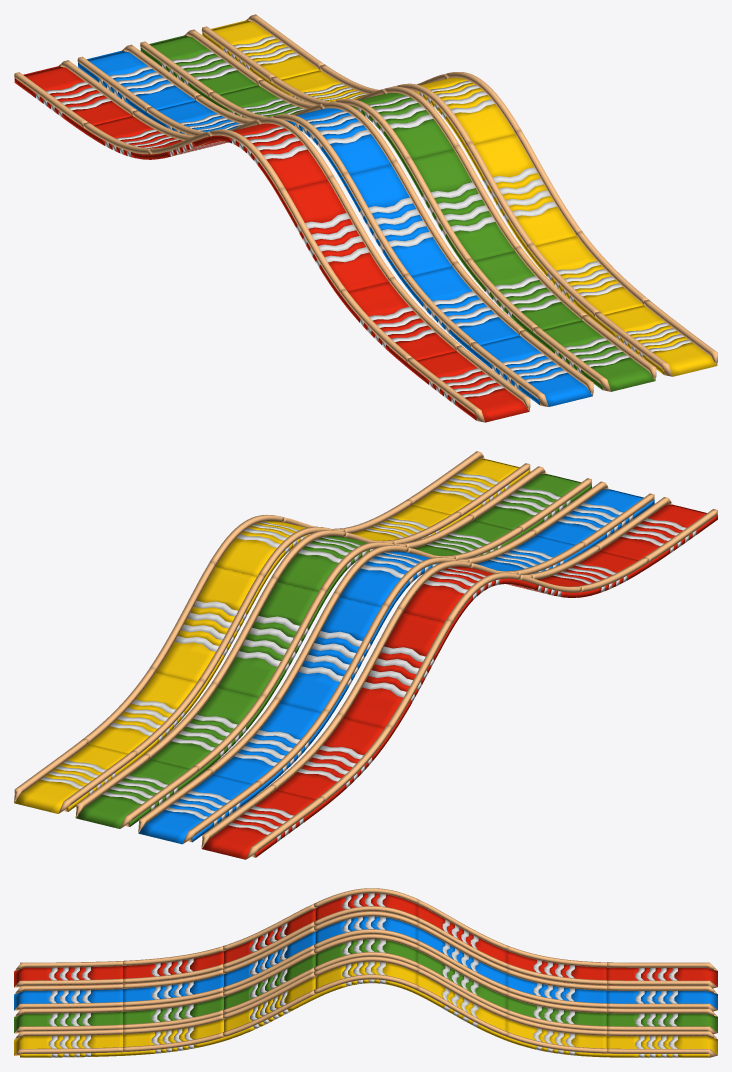
The model's file is ramp-fs22-mod-textured.glb.
3 renders of one model, top to bottom at view 1: azimuth 30°, elevation 25°; view 2: azimuth 150°, elevation 25°; view 3: azimuth 270°, elevation 25°, orthographic. The views are drawn at different scales.
Parts seen in each view (by area): view 1: Ramp_FS22_Mod_—_combined_textured_ramp_1, Ramp_FS22_Mod_—_combined_textured_ramp, Ramp_FS22_Mod_—_combined_textured_ramp_2, Ramp_FS22_Mod_—_combined_textured_ramp_3, Ramp_FS22_Mod_—_combined_textured_ramp_11, Ramp_FS22_Mod_—_combined_textured_ramp_9, Ramp_FS22_Mod_—_combined_textured_ramp_5, Ramp_FS22_Mod_—_combined_textured_ramp_7, Ramp_FS22_Mod_—_combined_textured_ramp_10, Ramp_FS22_Mod_—_combined_textured_ramp_8, Ramp_FS22_Mod_—_combined_textured_ramp_6, Ramp_FS22_Mod_—_combined_textured_ramp_4; view 2: Ramp_FS22_Mod_—_combined_textured_ramp_1, Ramp_FS22_Mod_—_combined_textured_ramp, Ramp_FS22_Mod_—_combined_textured_ramp_2, Ramp_FS22_Mod_—_combined_textured_ramp_3, Ramp_FS22_Mod_—_combined_textured_ramp_11, Ramp_FS22_Mod_—_combined_textured_ramp_9, Ramp_FS22_Mod_—_combined_textured_ramp_7, Ramp_FS22_Mod_—_combined_textured_ramp_5, Ramp_FS22_Mod_—_combined_textured_ramp_10, Ramp_FS22_Mod_—_combined_textured_ramp_8, Ramp_FS22_Mod_—_combined_textured_ramp_6, Ramp_FS22_Mod_—_combined_textured_ramp_4; view 3: Ramp_FS22_Mod_—_combined_textured_ramp_3, Ramp_FS22_Mod_—_combined_textured_ramp_11, Ramp_FS22_Mod_—_combined_textured_ramp_5, Ramp_FS22_Mod_—_combined_textured_ramp_9, Ramp_FS22_Mod_—_combined_textured_ramp_7, Ramp_FS22_Mod_—_combined_textured_ramp_2, Ramp_FS22_Mod_—_combined_textured_ramp_1, Ramp_FS22_Mod_—_combined_textured_ramp, Ramp_FS22_Mod_—_combined_textured_ramp_4, Ramp_FS22_Mod_—_combined_textured_ramp_6, Ramp_FS22_Mod_—_combined_textured_ramp_10, Ramp_FS22_Mod_—_combined_textured_ramp_8.
Boxes of the visible parts, bbox=[...] form: Ramp_FS22_Mod_—_combined_textured_ramp_1: bbox=[14, 66, 529, 422]; Ramp_FS22_Mod_—_combined_textured_ramp: bbox=[78, 50, 592, 406]; Ramp_FS22_Mod_—_combined_textured_ramp_2: bbox=[140, 35, 654, 391]; Ramp_FS22_Mod_—_combined_textured_ramp_3: bbox=[202, 20, 716, 376]; Ramp_FS22_Mod_—_combined_textured_ramp_11: bbox=[14, 60, 530, 422]; Ramp_FS22_Mod_—_combined_textured_ramp_9: bbox=[77, 44, 593, 406]; Ramp_FS22_Mod_—_combined_textured_ramp_5: bbox=[201, 14, 717, 376]; Ramp_FS22_Mod_—_combined_textured_ramp_7: bbox=[140, 29, 656, 391]; Ramp_FS22_Mod_—_combined_textured_ramp_10: bbox=[36, 81, 503, 404]; Ramp_FS22_Mod_—_combined_textured_ramp_8: bbox=[99, 66, 566, 389]; Ramp_FS22_Mod_—_combined_textured_ramp_6: bbox=[162, 51, 629, 372]; Ramp_FS22_Mod_—_combined_textured_ramp_4: bbox=[223, 36, 691, 356]; Ramp_FS22_Mod_—_combined_textured_ramp_1: bbox=[202, 504, 717, 859]; Ramp_FS22_Mod_—_combined_textured_ramp: bbox=[138, 489, 654, 844]; Ramp_FS22_Mod_—_combined_textured_ramp_2: bbox=[76, 474, 591, 828]; Ramp_FS22_Mod_—_combined_textured_ramp_3: bbox=[14, 459, 530, 813]; Ramp_FS22_Mod_—_combined_textured_ramp_11: bbox=[201, 497, 717, 859]; Ramp_FS22_Mod_—_combined_textured_ramp_9: bbox=[138, 481, 654, 843]; Ramp_FS22_Mod_—_combined_textured_ramp_7: bbox=[75, 466, 591, 828]; Ramp_FS22_Mod_—_combined_textured_ramp_5: bbox=[14, 451, 530, 813]; Ramp_FS22_Mod_—_combined_textured_ramp_10: bbox=[228, 518, 696, 841]; Ramp_FS22_Mod_—_combined_textured_ramp_8: bbox=[165, 503, 632, 826]; Ramp_FS22_Mod_—_combined_textured_ramp_6: bbox=[103, 487, 570, 810]; Ramp_FS22_Mod_—_combined_textured_ramp_4: bbox=[41, 472, 508, 794]; Ramp_FS22_Mod_—_combined_textured_ramp_3: bbox=[14, 961, 717, 1057]; Ramp_FS22_Mod_—_combined_textured_ramp_11: bbox=[14, 888, 717, 988]; Ramp_FS22_Mod_—_combined_textured_ramp_5: bbox=[14, 956, 717, 1057]; Ramp_FS22_Mod_—_combined_textured_ramp_9: bbox=[14, 911, 717, 1011]; Ramp_FS22_Mod_—_combined_textured_ramp_7: bbox=[14, 934, 717, 1034]; Ramp_FS22_Mod_—_combined_textured_ramp_2: bbox=[14, 939, 717, 1032]; Ramp_FS22_Mod_—_combined_textured_ramp_1: bbox=[14, 893, 717, 986]; Ramp_FS22_Mod_—_combined_textured_ramp: bbox=[14, 916, 717, 1010]; Ramp_FS22_Mod_—_combined_textured_ramp_4: bbox=[48, 961, 677, 1057]; Ramp_FS22_Mod_—_combined_textured_ramp_6: bbox=[48, 939, 677, 1026]; Ramp_FS22_Mod_—_combined_textured_ramp_10: bbox=[48, 893, 677, 983]; Ramp_FS22_Mod_—_combined_textured_ramp_8: bbox=[48, 916, 677, 1003].
Bounding box in the file's own units: 25.98 × 11.25 × 87.93.
6 materials, 6 textured.
